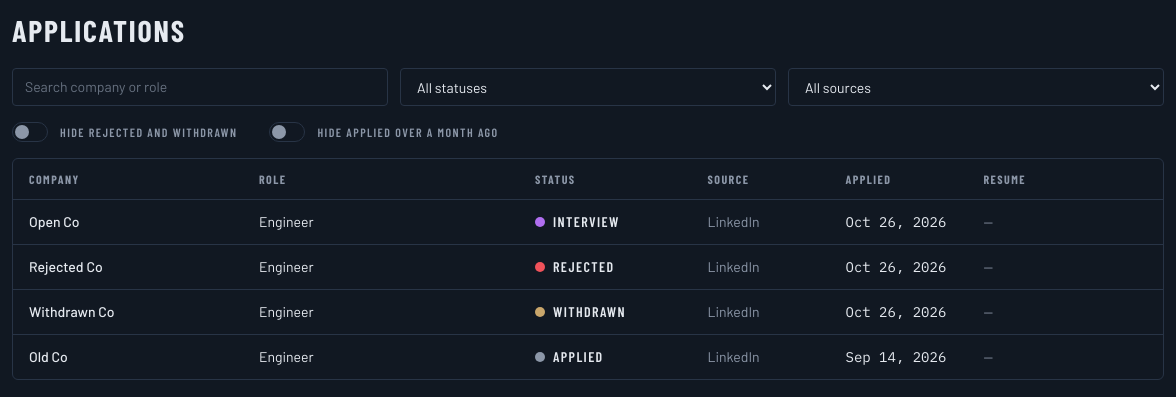
ApplicationsPage toggles › hides rejected and withdrawn applications when switched on
Expected: the link "Rejected Co" is shown, [29,258,103,275]
Click the switch labelled "Hide rejected and withdrawn" at [125, 132], box [12,122,238,142]
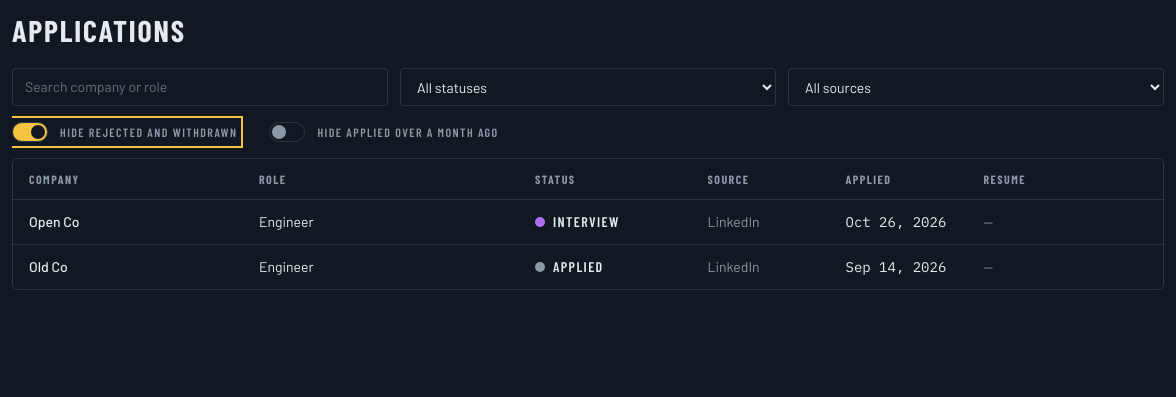
Result: the switch labelled "Hide rejected and withdrawn" is checked at [12,122,238,142]
Result: the link "Rejected Co" is gone
Result: the link "Withdrawn Co" is gone
